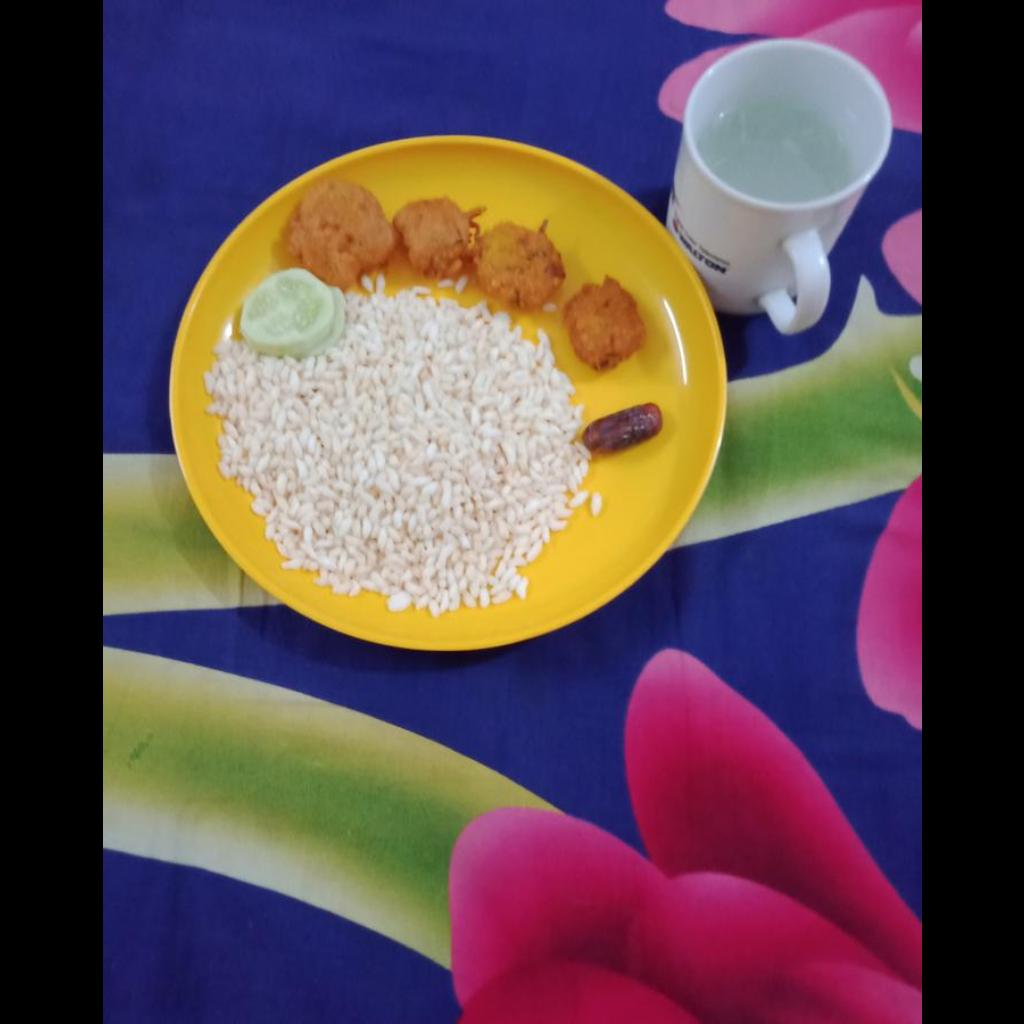chop-alu: (285, 178, 559, 305)
cucumber: (237, 272, 342, 346)
dates: (586, 399, 659, 455)
piyaju: (562, 278, 641, 371)
puffed-rice: (205, 299, 584, 614)
